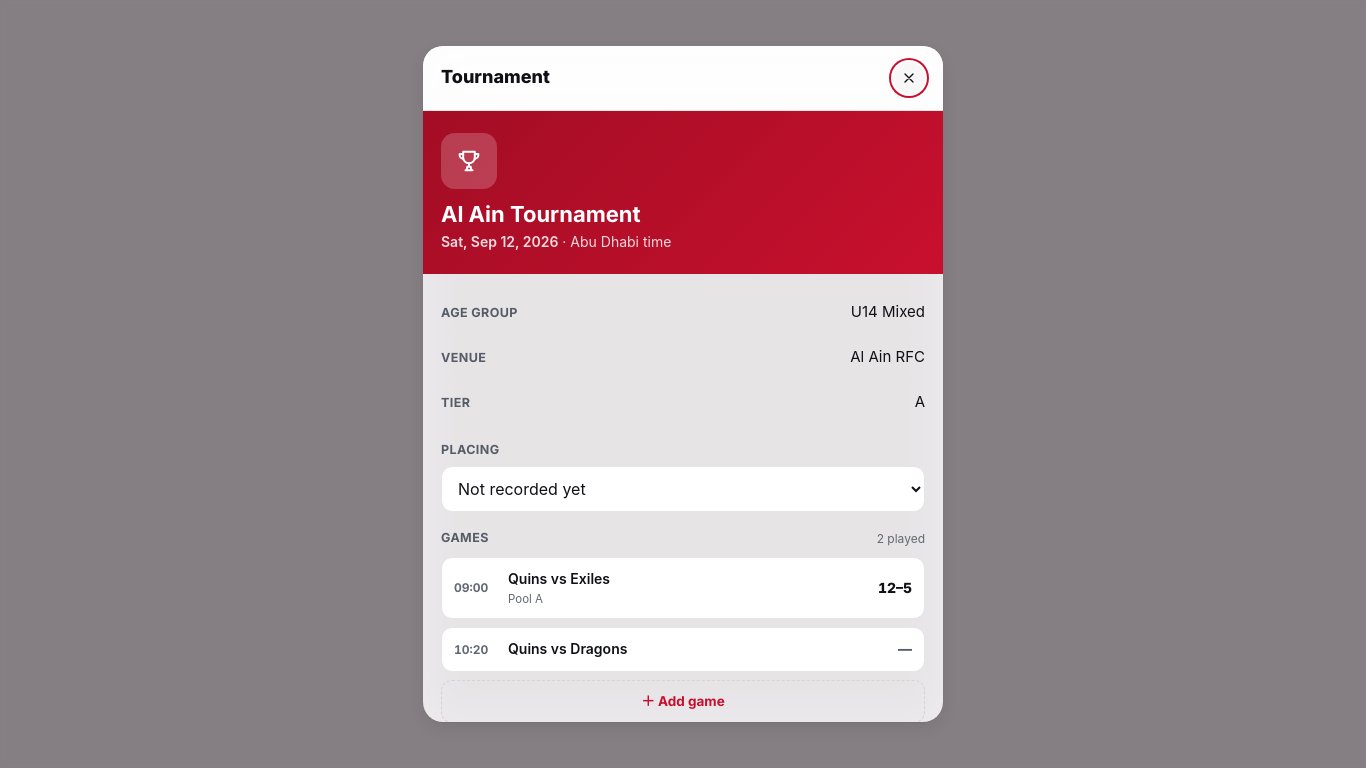
TournamentDetail › opens the add-game form from the Add game button
The width and height of the screenshot is (1366, 768).
Expected: the text "Quins vs Exiles" is shown, x1=508 y1=570 x2=610 y2=587
Click the button "＋ Add game". click: click(683, 702)
box: x1=441 y1=680 x2=925 y2=723
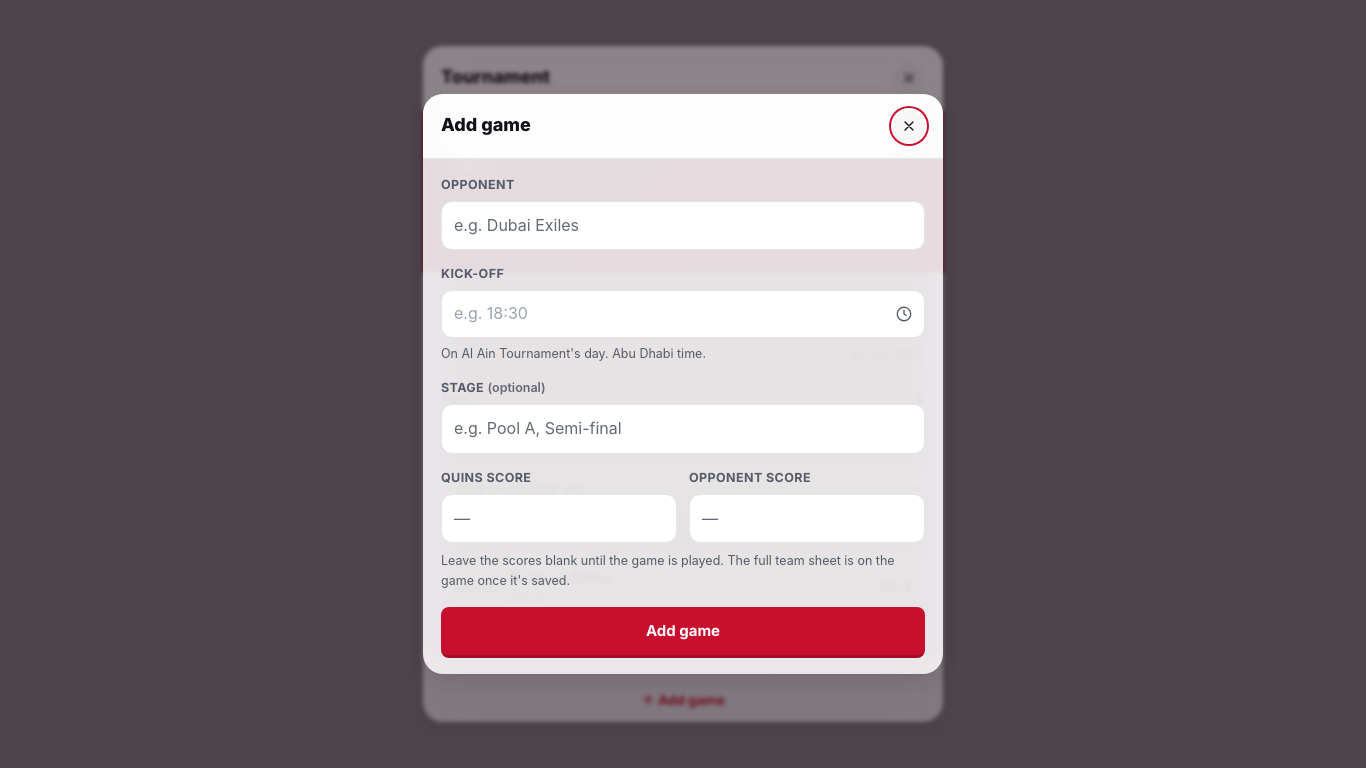
Expected: the heading "Add game" is shown, x1=441 y1=111 x2=531 y2=140
